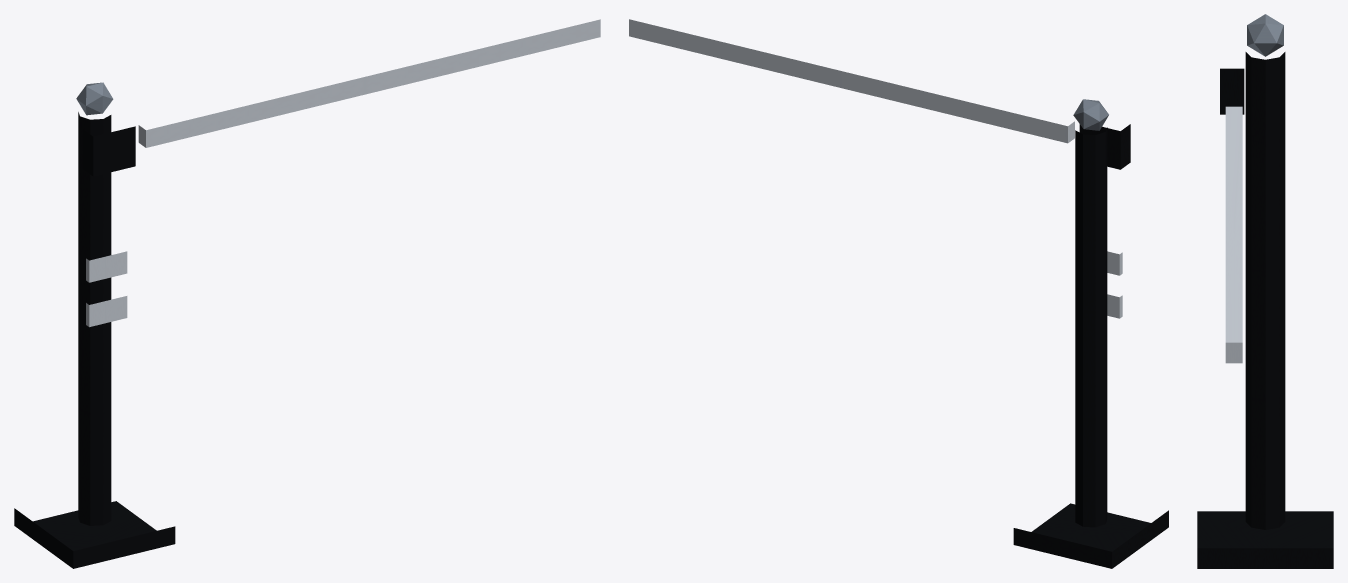
File: v2_rally_stanchion.glb
3 views of the same model, side by side, from view 1: azimuth 30°, elevation 25°; view 2: azimuth 150°, elevation 25°; view 3: azimuth 270°, elevation 25° (orthographic). The views are drawn at different scales.
Parts seen in each view (by area): view 1: Post, Belt, Net_Band, Post_Cap; view 2: Post, Belt, Post_Cap, Net_Band; view 3: Post, Belt, Post_Cap.
Part boxes in pixels (x1,y1,x2,y2): Post: (14, 112, 175, 568); Belt: (138, 19, 600, 147); Net_Band: (86, 251, 127, 327); Post_Cap: (76, 82, 113, 115); Post: (1013, 124, 1168, 568); Belt: (629, 19, 1074, 143); Post_Cap: (1073, 99, 1108, 130); Net_Band: (1107, 251, 1122, 318); Post: (1197, 52, 1333, 568); Belt: (1225, 106, 1242, 363); Post_Cap: (1247, 14, 1283, 56).
Size of what is drawn, in the model's own units: 1.27 by 1.01 by 0.24.
Materials: 3 (3 with a texture image).
